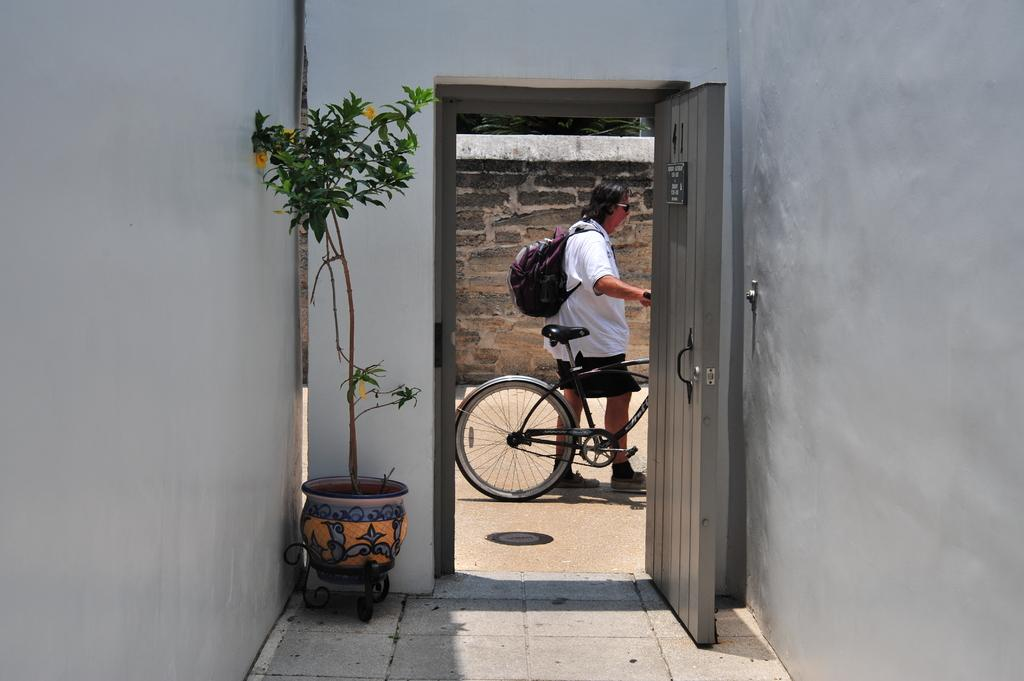handle: (670, 338, 696, 410)
